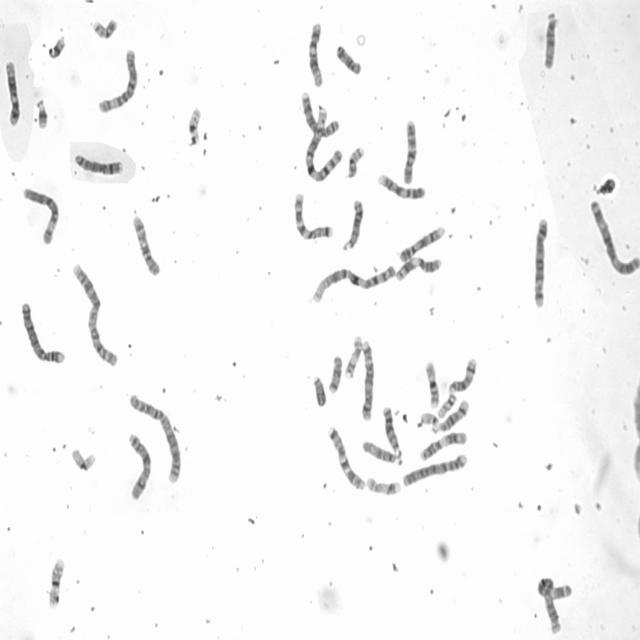A1: (309, 260, 397, 305), (302, 96, 344, 185)
A2: (126, 390, 183, 486), (70, 260, 120, 369)
A3: (588, 195, 640, 278), (533, 571, 576, 637)
B4: (18, 299, 66, 366), (401, 451, 469, 488)
B5: (531, 214, 550, 308), (359, 338, 375, 422)
C10: (130, 212, 161, 278), (401, 116, 418, 186)
C11: (417, 428, 468, 462), (393, 254, 444, 282)
C12: (1, 56, 22, 126), (307, 19, 325, 89)
C6: (96, 45, 140, 115), (21, 184, 60, 246)
C7: (326, 424, 366, 492), (291, 190, 334, 242)
C8: (299, 89, 341, 140), (71, 150, 125, 177)
C9: (398, 223, 446, 263), (375, 171, 427, 201)
D13: (339, 196, 365, 253), (380, 404, 403, 462)
D14: (428, 396, 470, 436), (445, 354, 478, 396)
D15: (360, 437, 404, 466), (541, 7, 560, 71)
E16: (422, 356, 440, 408), (46, 558, 64, 607)
E17: (342, 332, 363, 380), (364, 474, 403, 497)
E18: (334, 42, 363, 76), (326, 352, 344, 394)
F19: (184, 107, 203, 151), (69, 444, 97, 472)
F20: (344, 143, 366, 180), (90, 15, 118, 40)
G21: (46, 32, 67, 60), (32, 96, 49, 130)
G22: (435, 391, 458, 420), (418, 410, 440, 433)
X: (125, 429, 153, 503)
Y: (311, 372, 327, 408)
